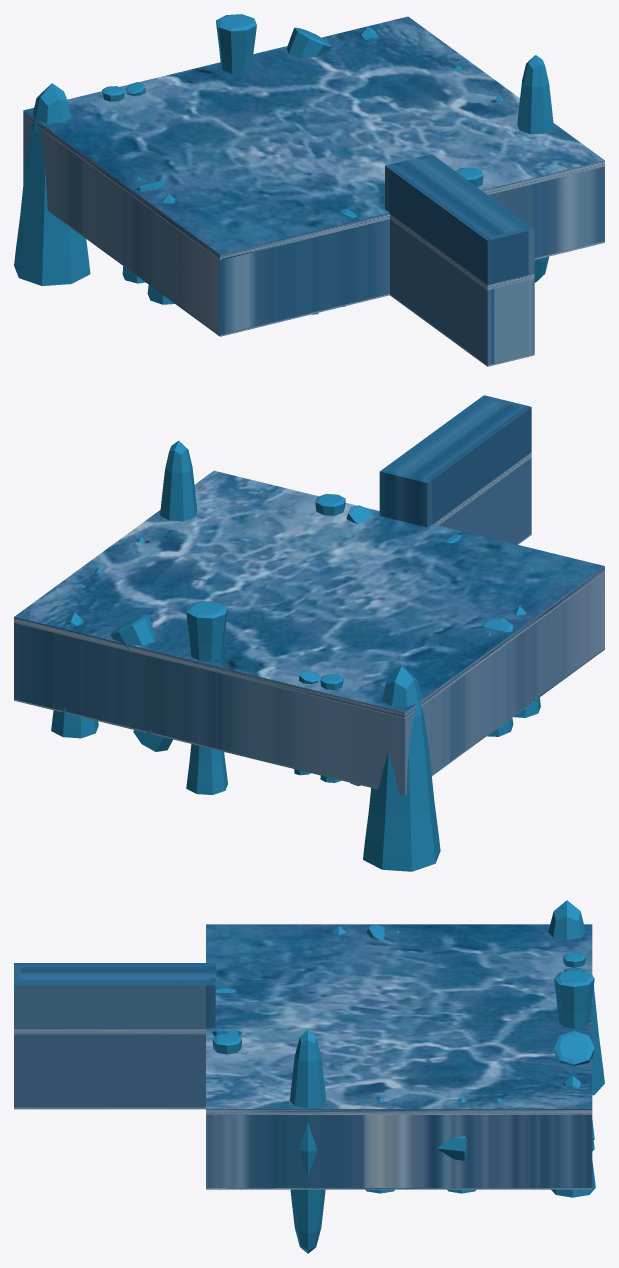
The model's file is Dungeon_Gelo.fbx.
The picture shows the model from 3 angles, top to bottom: view 1: azimuth 30°, elevation 25°; view 2: azimuth 150°, elevation 25°; view 3: azimuth 270°, elevation 25°; orthographic projection. The views are drawn at different scales.
Parts seen in each view (by area): view 1: Teto, Estrutura, Estagtites; view 2: Teto, Estrutura, Estagtites; view 3: Teto, Estrutura, Estagtites.
Boxes of the visible parts, bbox=[...] form: Teto: bbox=[23, 16, 604, 290]; Estrutura: bbox=[23, 117, 604, 366]; Estagtites: bbox=[14, 14, 553, 314]; Teto: bbox=[14, 395, 604, 718]; Estrutura: bbox=[14, 458, 604, 795]; Estagtites: bbox=[51, 440, 540, 871]; Teto: bbox=[14, 924, 592, 1114]; Estrutura: bbox=[14, 1034, 592, 1189]; Estagtites: bbox=[212, 900, 604, 1253].
Bounding box in the file's own units: 13962 × 7489 × 17809.
